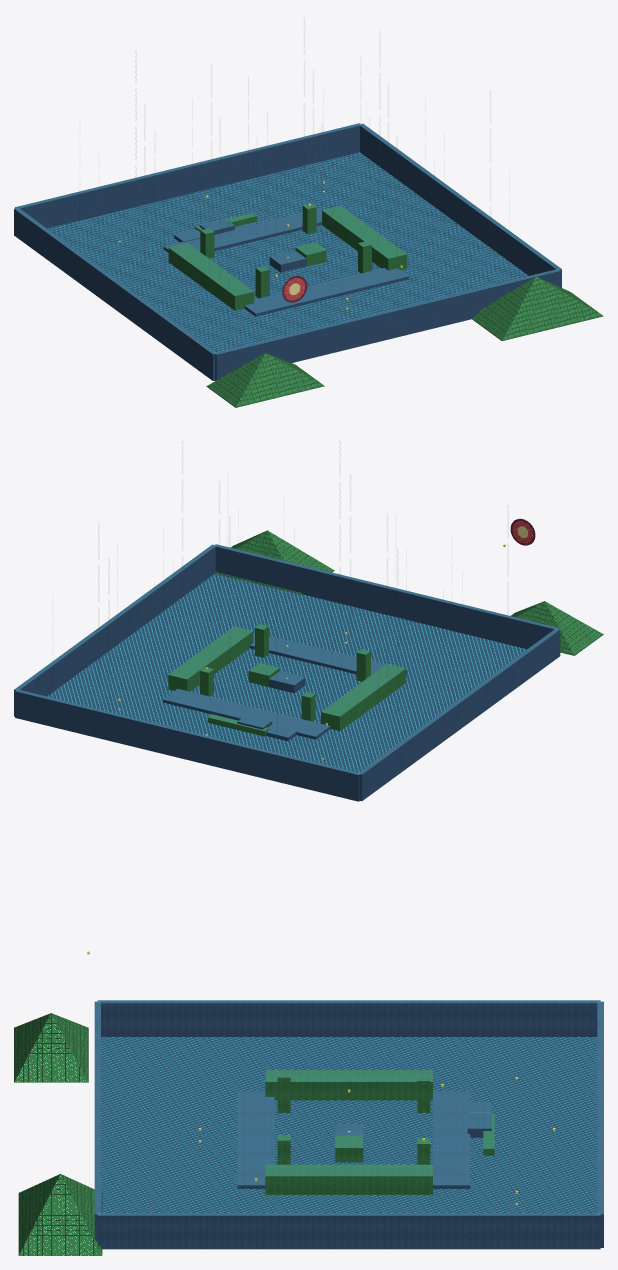
File: sunken-temple.glb
3 views of the same model, one above another, from view 1: azimuth 30°, elevation 25°; view 2: azimuth 150°, elevation 25°; view 3: azimuth 270°, elevation 25° (orthographic). The views are drawn at different scales.
Parts seen in each view (by area): view 1: ART_sunken-temple_flooded_temple_floor, WALKABLE_sunken-temple_flooded_temple_floor, ART_sunken-temple_south_ruins, ART_sunken-temple_north_ruins, ART_sunken-temple_west_ruins, ART_sunken-temple_east_ruins, ART_sunken-temple_distant_jungle_mound_east, ART_sunken-temple_distant_jungle_mound_west, ART_sunken-temple_left_broken_wall, ART_sunken-temple_raised_walkway_north, ART_sunken-temple_right_broken_wall, ART_sunken-temple_raised_walkway_south (+10 smaller); view 2: ART_sunken-temple_flooded_temple_floor, WALKABLE_sunken-temple_flooded_temple_floor, ART_sunken-temple_south_ruins, ART_sunken-temple_north_ruins, ART_sunken-temple_west_ruins, ART_sunken-temple_east_ruins, ART_sunken-temple_left_broken_wall, ART_sunken-temple_raised_walkway_south, ART_sunken-temple_right_broken_wall, WALKABLE_sunken-temple_raised_walkway_south, ART_sunken-temple_distant_jungle_mound_west, ART_sunken-temple_raised_walkway_north (+12 smaller); view 3: ART_sunken-temple_flooded_temple_floor, WALKABLE_sunken-temple_flooded_temple_floor, ART_sunken-temple_east_ruins, ART_sunken-temple_west_ruins, ART_sunken-temple_distant_jungle_mound_east, ART_sunken-temple_right_broken_wall, ART_sunken-temple_distant_jungle_mound_west, ART_sunken-temple_left_broken_wall, ART_sunken-temple_raised_walkway_south, ART_sunken-temple_raised_walkway_north, WALKABLE_sunken-temple_raised_walkway_south, WALKABLE_sunken-temple_raised_walkway_north (+10 smaller).
Part boxes in pixels (x1,y1,x2,y2): ART_sunken-temple_flooded_temple_floor: (47, 152, 528, 380); WALKABLE_sunken-temple_flooded_temple_floor: (48, 152, 527, 351); ART_sunken-temple_south_ruins: (15, 123, 361, 228); ART_sunken-temple_north_ruins: (215, 269, 561, 380); ART_sunken-temple_west_ruins: (14, 208, 215, 380); ART_sunken-temple_east_ruins: (360, 123, 561, 287); ART_sunken-temple_distant_jungle_mound_east: (472, 276, 603, 340); ART_sunken-temple_distant_jungle_mound_west: (206, 353, 324, 407); ART_sunken-temple_left_broken_wall: (168, 243, 254, 310); ART_sunken-temple_raised_walkway_north: (244, 268, 408, 316); ART_sunken-temple_right_broken_wall: (322, 206, 407, 270); ART_sunken-temple_raised_walkway_south: (163, 209, 321, 252); ART_sunken-temple_flooded_temple_floor: (47, 573, 526, 801); WALKABLE_sunken-temple_flooded_temple_floor: (48, 574, 526, 771); ART_sunken-temple_south_ruins: (15, 689, 360, 801); ART_sunken-temple_north_ruins: (214, 544, 559, 649); ART_sunken-temple_west_ruins: (359, 628, 560, 801); ART_sunken-temple_east_ruins: (14, 544, 215, 716); ART_sunken-temple_left_broken_wall: (321, 664, 406, 731); ART_sunken-temple_raised_walkway_south: (163, 689, 330, 739); ART_sunken-temple_right_broken_wall: (168, 626, 253, 691); WALKABLE_sunken-temple_raised_walkway_south: (163, 689, 329, 736); ART_sunken-temple_distant_jungle_mound_west: (511, 601, 603, 655); ART_sunken-temple_raised_walkway_north: (249, 632, 407, 674); ART_sunken-temple_flooded_temple_floor: (101, 1037, 597, 1212); WALKABLE_sunken-temple_flooded_temple_floor: (101, 1037, 596, 1212); ART_sunken-temple_east_ruins: (97, 1213, 600, 1249); ART_sunken-temple_west_ruins: (97, 1000, 600, 1036); ART_sunken-temple_distant_jungle_mound_east: (18, 1174, 102, 1255); ART_sunken-temple_right_broken_wall: (265, 1164, 432, 1194); ART_sunken-temple_distant_jungle_mound_west: (14, 1013, 88, 1082); ART_sunken-temple_left_broken_wall: (265, 1070, 432, 1100); ART_sunken-temple_raised_walkway_south: (433, 1090, 470, 1188); ART_sunken-temple_raised_walkway_north: (237, 1090, 274, 1188); WALKABLE_sunken-temple_raised_walkway_south: (433, 1091, 469, 1184); WALKABLE_sunken-temple_raised_walkway_north: (238, 1091, 274, 1184).
Size of what is drawn, in the model's own units: 58 by 36.73 by 63.35.
Materials: 7 (5 with a texture image).
